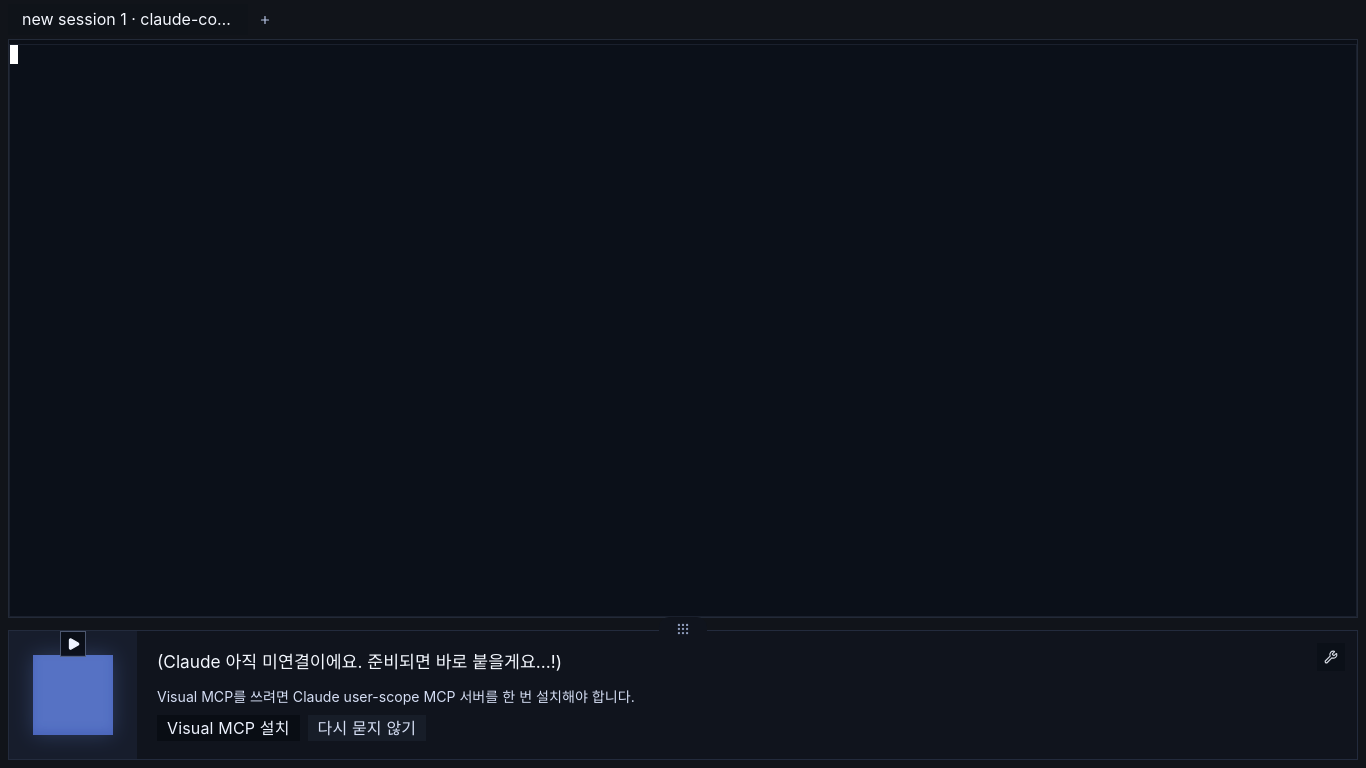
Test: App shell › shows a connected pending fallback right after launch is requested
The image size is (1366, 768).
What coordinates should you click on to do the following:
click the button named "실행하기"
I would click on:
 (73, 695)
Its box is top-left (9, 631), bottom-right (137, 759).
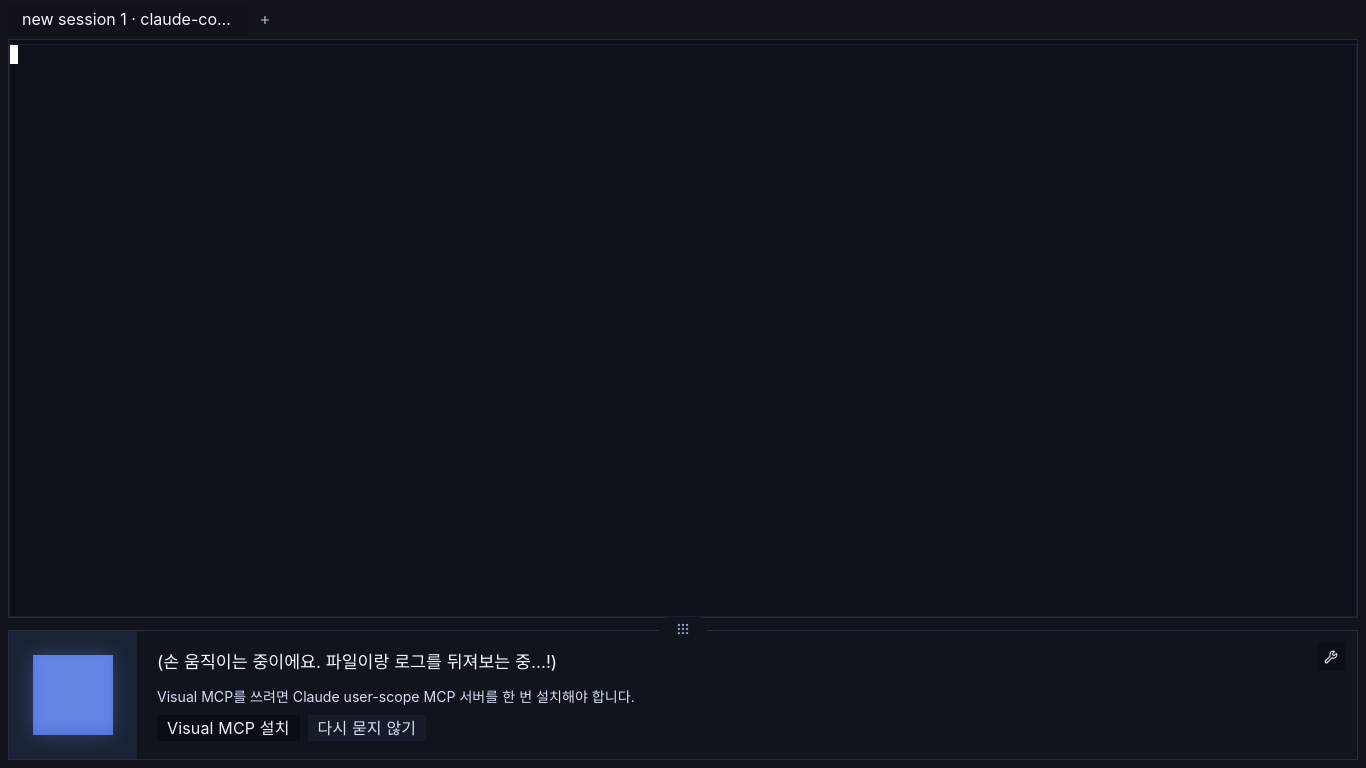
expect the text "Claude 아직 미연결이에요. 준비되면 바로 붙을게요" is gone: met
expect the text "(손 움직이는 중이에요. 파일이랑 로그를 뒤져보는 중...!)" is shown: met, box top-left (157, 651), bottom-right (557, 672)
